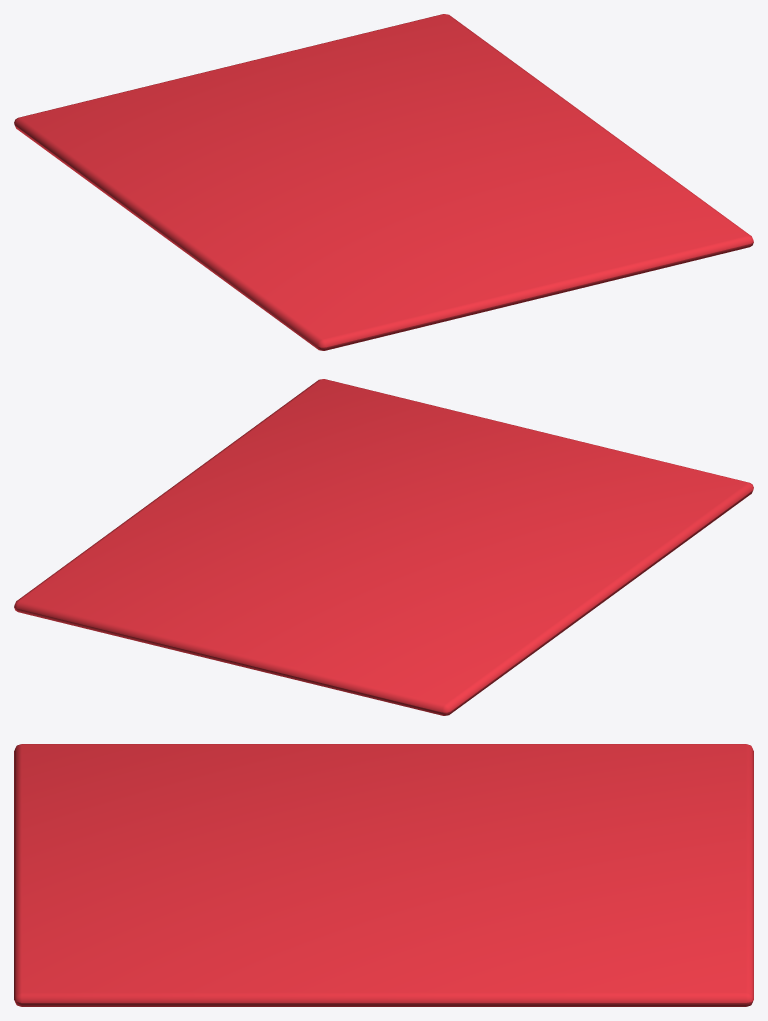
Rendered from GEO_GT3_SUPERCAR_Hood.glb.
3 views of the same model, one above another, from view 1: azimuth 30°, elevation 25°; view 2: azimuth 150°, elevation 25°; view 3: azimuth 270°, elevation 25° (orthographic). The views are drawn at different scales.
Parts seen in each view (by area): view 1: GEO_GT3_SUPERCAR_Hood; view 2: GEO_GT3_SUPERCAR_Hood; view 3: GEO_GT3_SUPERCAR_Hood.
Boxes of the visible parts, x1=… form: GEO_GT3_SUPERCAR_Hood: x1=14, y1=14, x2=753, y2=350; GEO_GT3_SUPERCAR_Hood: x1=14, y1=379, x2=753, y2=715; GEO_GT3_SUPERCAR_Hood: x1=14, y1=744, x2=753, y2=1006.
Bounding box in the file's own units: 1.55 × 0.04 × 1.9.
